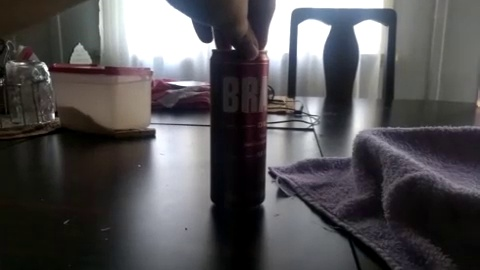duplo_malte: (210, 63, 271, 211)
